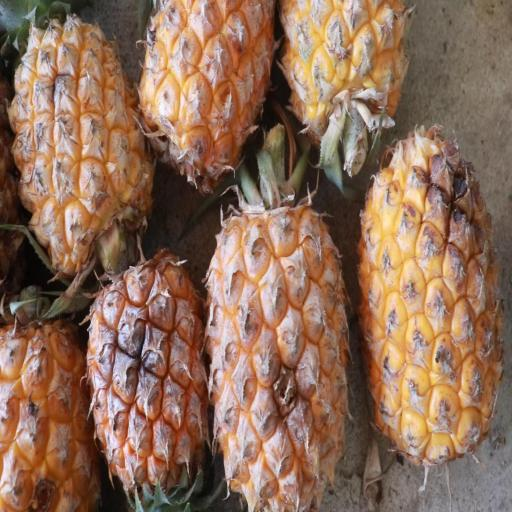Pineapple - v8 v1: (200, 147, 353, 510), (352, 127, 504, 467), (3, 0, 154, 290), (83, 236, 208, 502), (136, 0, 277, 189), (276, 0, 417, 165), (0, 292, 103, 509)
